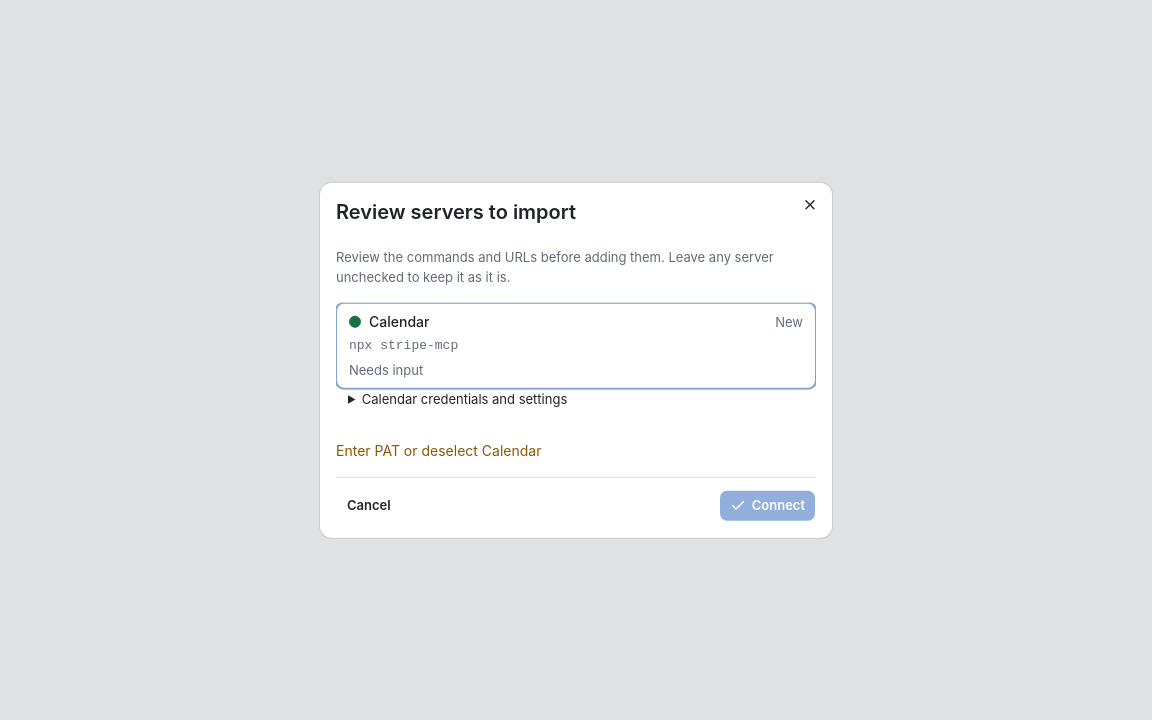
ImportReviewDialog › blocks migration only for selected missing required values
Expected: the button "Connect" is disabled, [719,489,816,521]
Expected: the text "Enter PAT or deselect Calendar" is shown, [336,441,541,458]
Click the heading "Calendar credentials and settings" at (465,398), box [362,390,567,406]
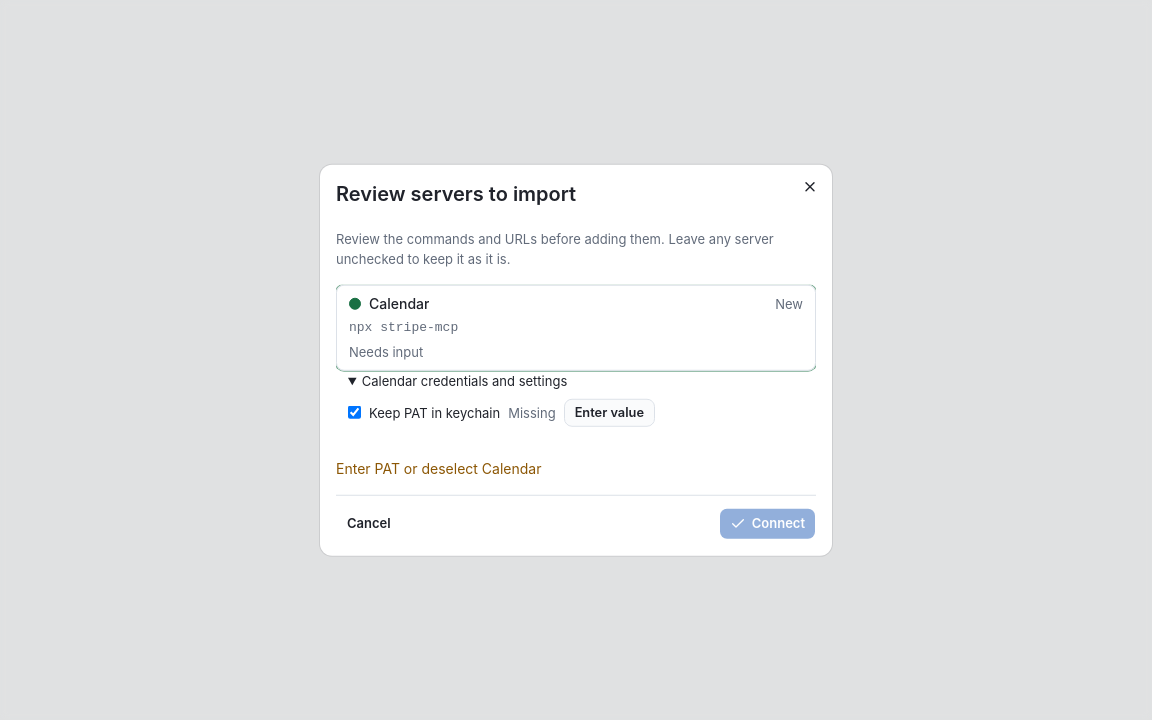
Click the button "Enter value" at (609,412), box [564,398,655,426]
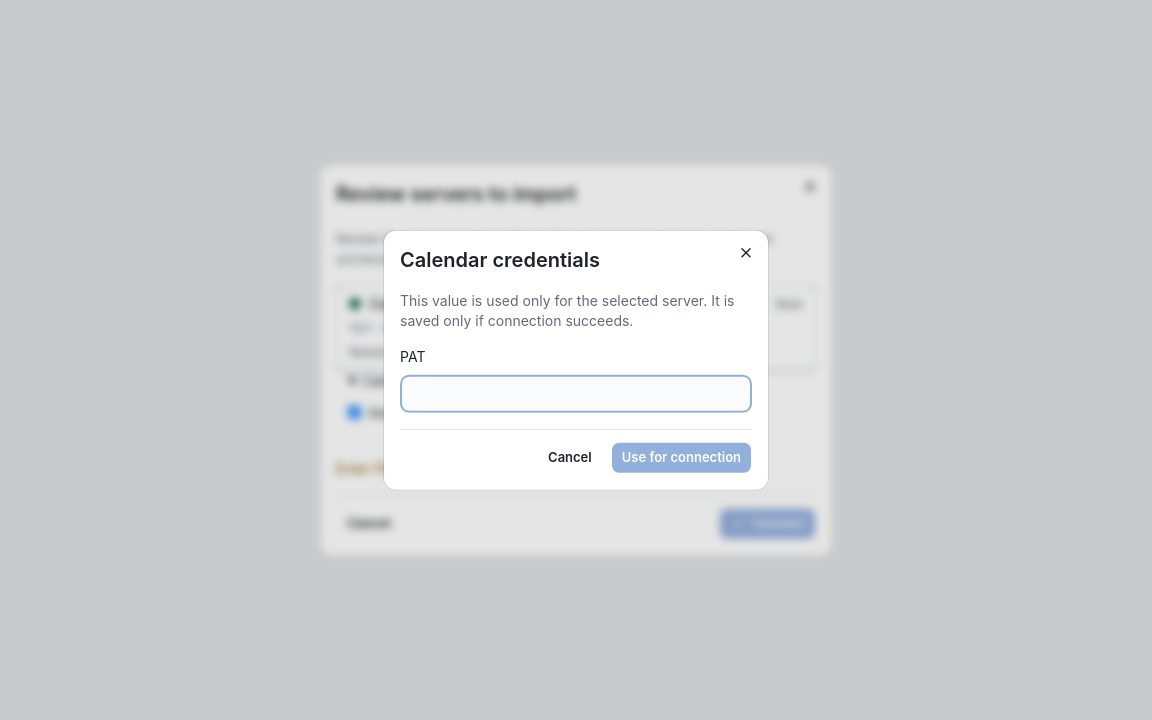
Type "synthetic" into the password field labelled "PAT" at (576,393), box [400,374,752,412]
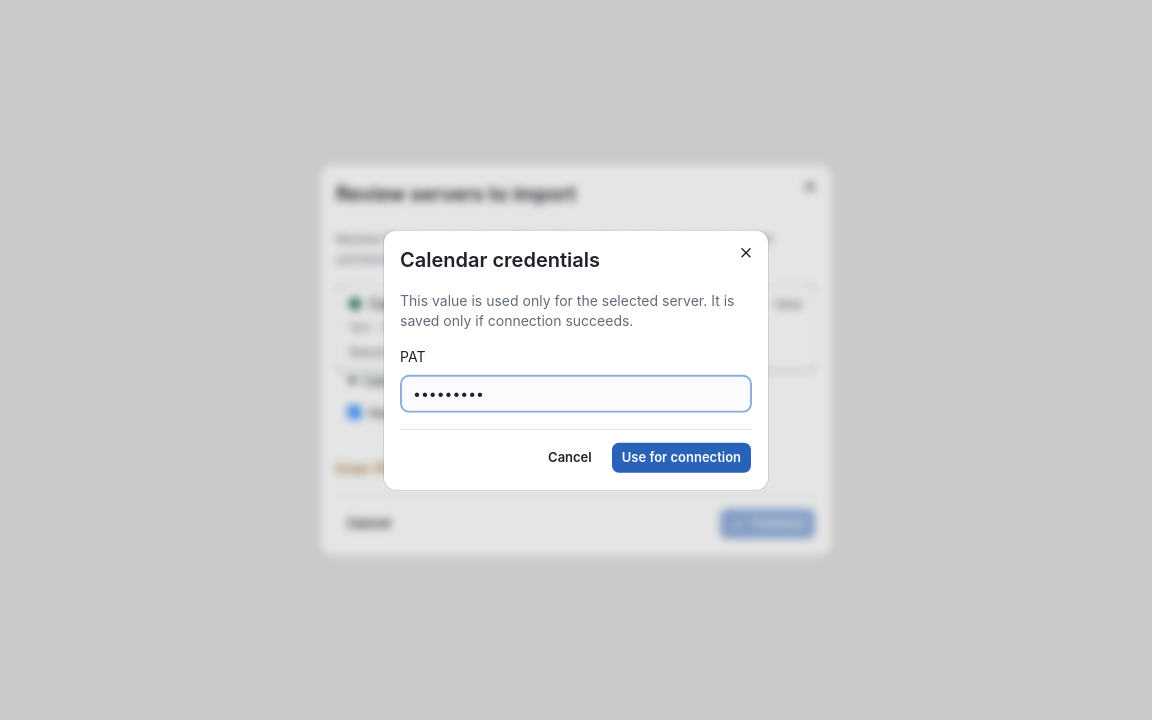
Click the button "Use for connection" at (681,457), box [611,441,752,473]
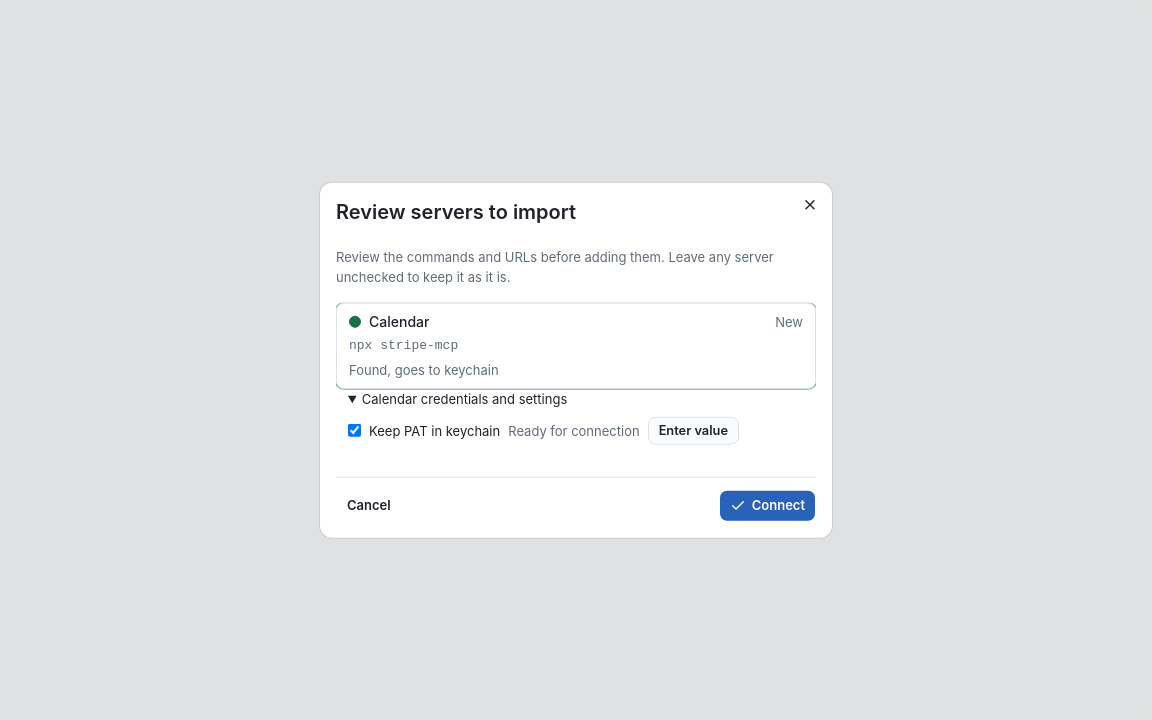
Result: the button "Connect" is enabled at [719,489,816,521]
